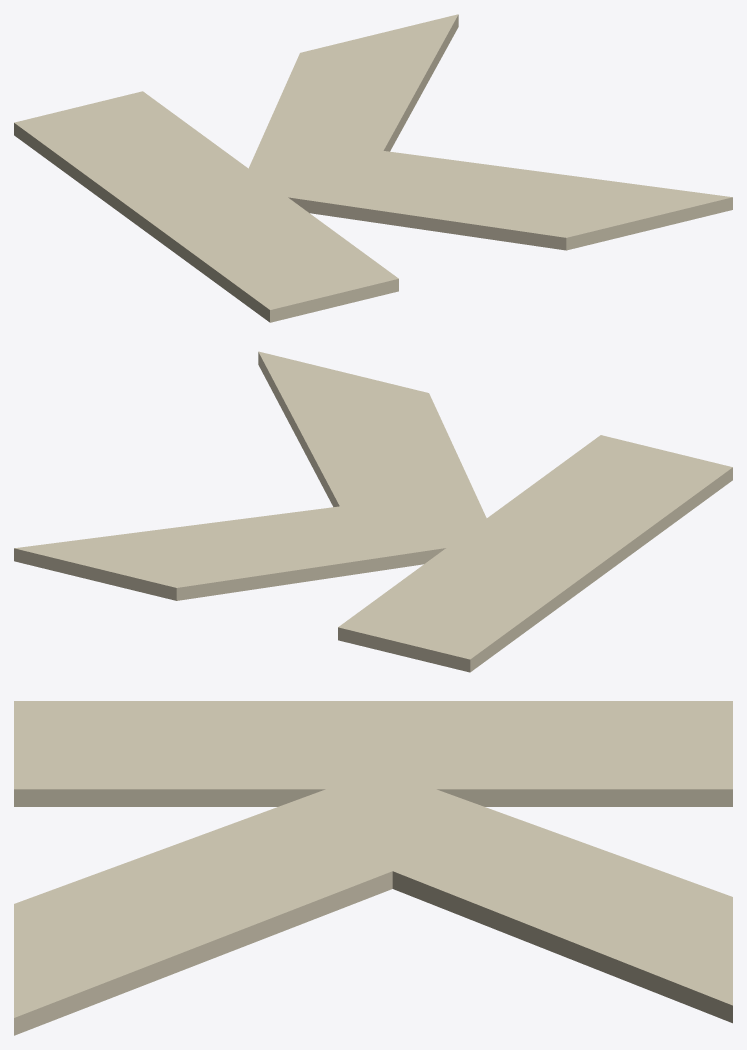
File: original-98.obj
3 views of the same model, one above another, from view 1: azimuth 30°, elevation 25°; view 2: azimuth 150°, elevation 25°; view 3: azimuth 270°, elevation 25° (orthographic). The views are drawn at different scales.
Parts seen in each view (by area): view 1: mesh169/mesh169-geometry#mesh169-geometry; view 2: mesh169/mesh169-geometry#mesh169-geometry; view 3: mesh169/mesh169-geometry#mesh169-geometry.
Part boxes in pixels (left/top/right/bottom): mesh169/mesh169-geometry#mesh169-geometry: left=14, top=14, right=732, bottom=322; mesh169/mesh169-geometry#mesh169-geometry: left=14, top=351, right=732, bottom=672; mesh169/mesh169-geometry#mesh169-geometry: left=14, top=701, right=732, bottom=1035.
Bounding box in the file's own units: 0.0149 × 0.000391 × 0.0143.
